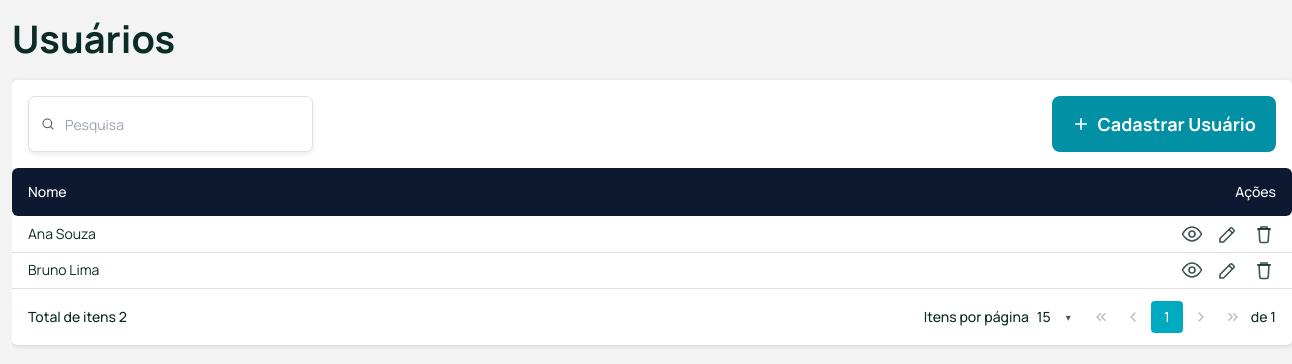
UsersListPage › filters the list by search
This screenshot has width=1292, height=364.
Expected: the text "Ana Souza" is shown, [12,216,584,252]
In the field named "Pesquisar usuário por nome, matrícula ou e-mail": point(170, 124) [28,96,313,152], type "Bruno"
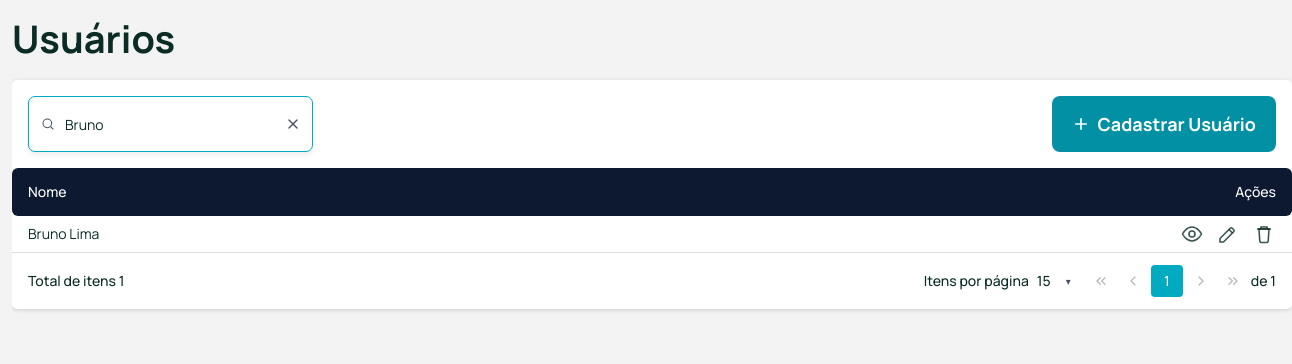
Expected: the text "Bruno Lima" is shown, [12,216,584,252]
Now the text "Ana Souza" is gone
